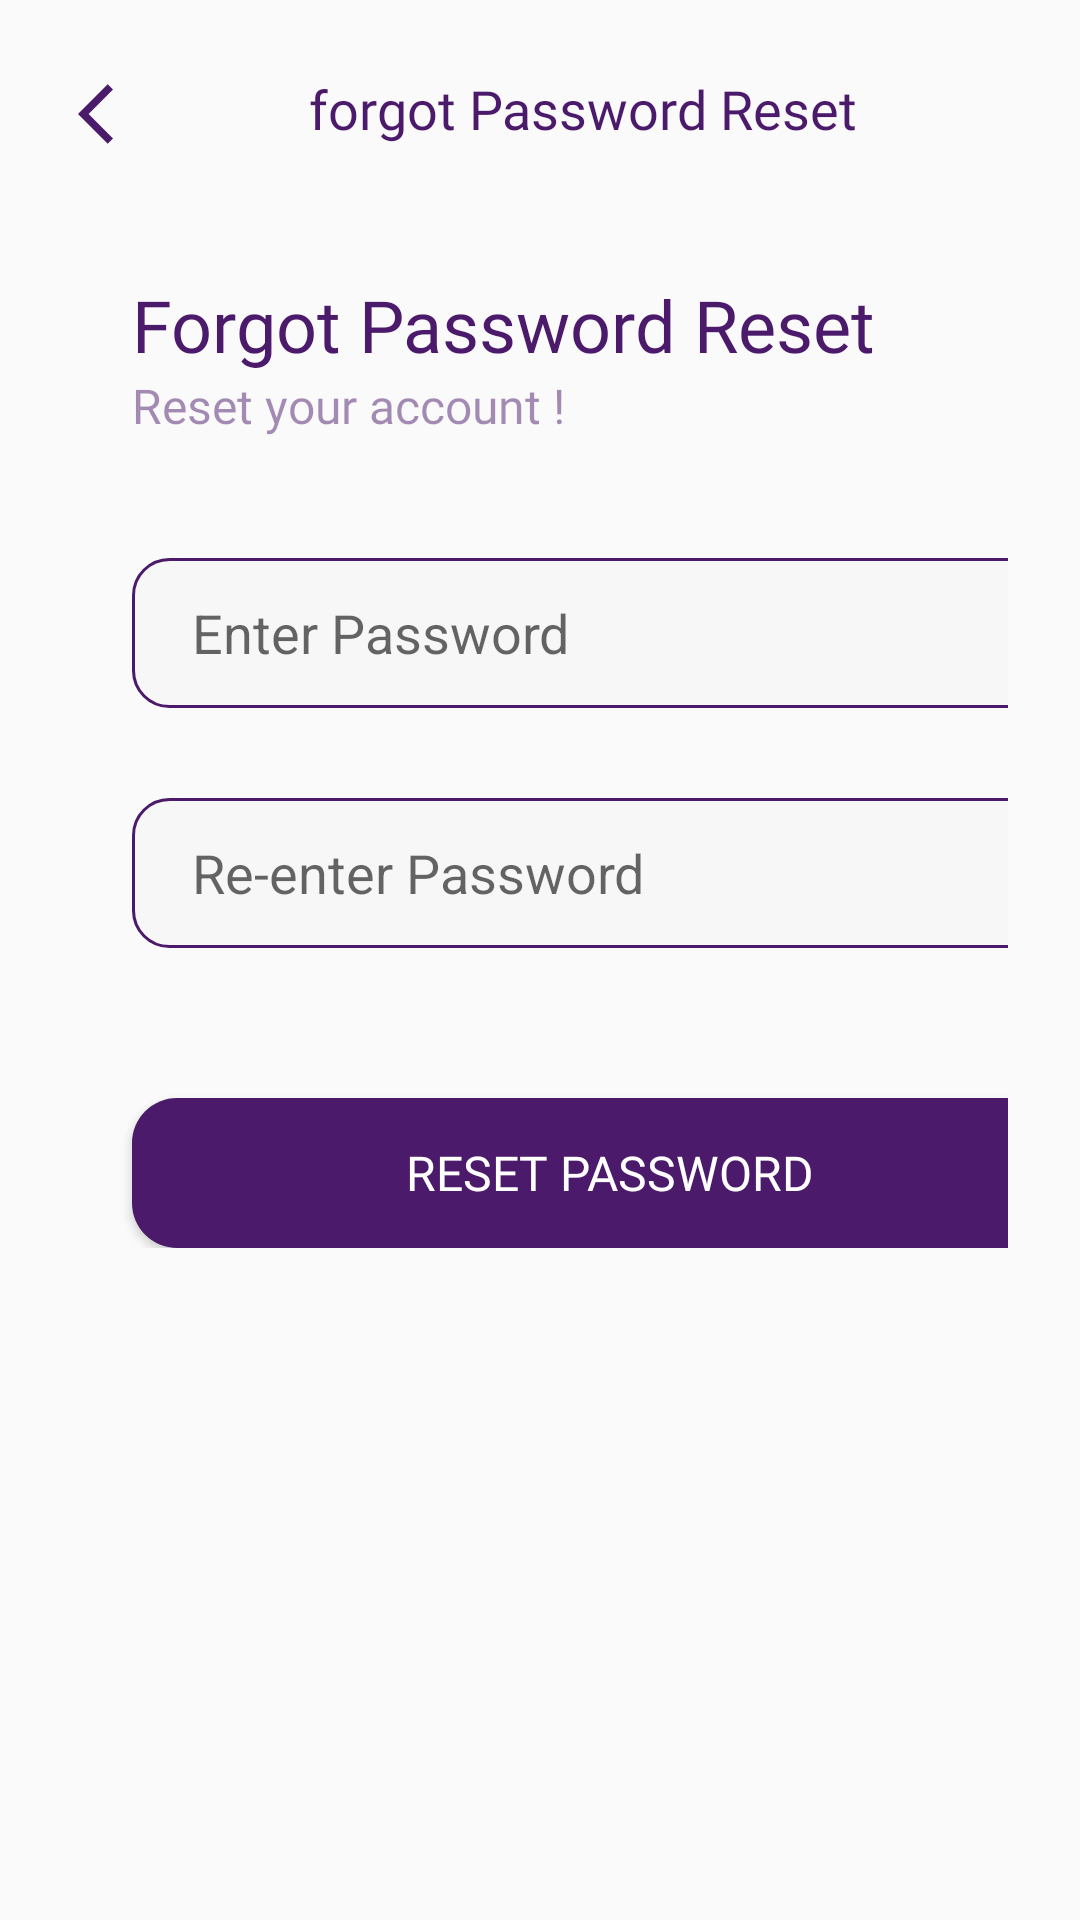

Icon bounding boxes for this 1080*1920 phone screenshot, format (x1, y1, x2, y2):
back arrow: (78, 84, 113, 144)
